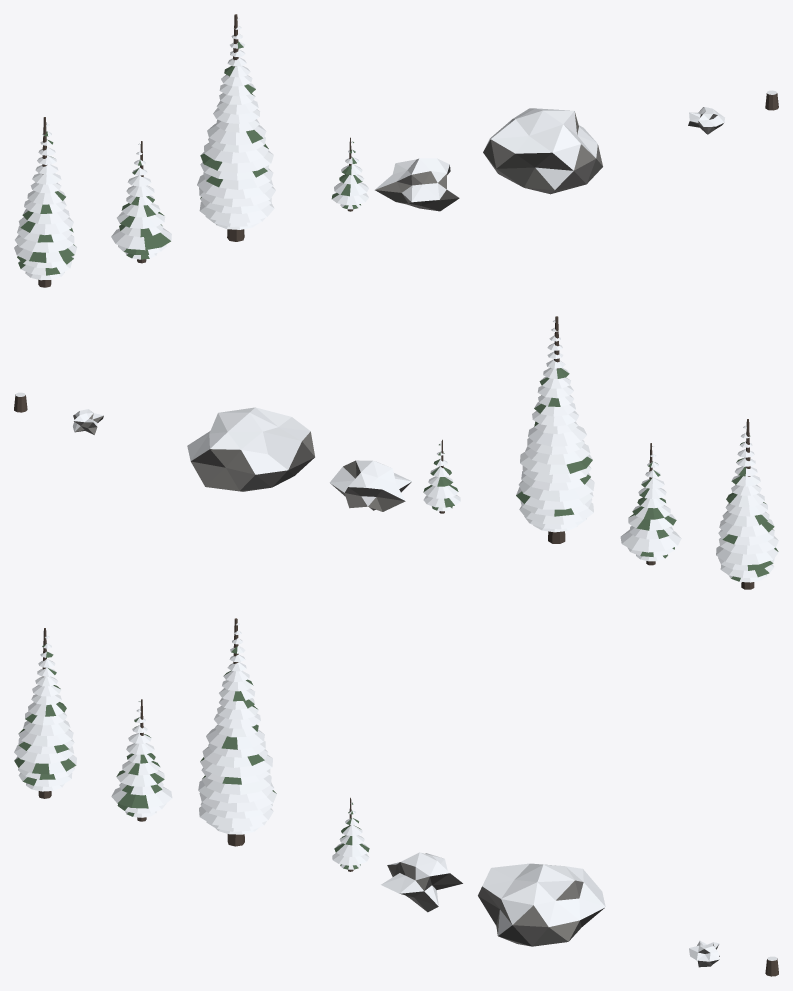
File: vegetation.glb
3 renders of one model, top to bottom at view 1: azimuth 30°, elevation 25°; view 2: azimuth 150°, elevation 25°; view 3: azimuth 330°, elevation 25°, orthographic.
Parts seen in each view (by area): view 1: tree_spruce_c, rock_b, tree_spruce_a, tree_spruce_b, rock_a, tree_spruce_d, rock_c; view 2: tree_spruce_c, rock_b, tree_spruce_a, tree_spruce_b, rock_a, tree_spruce_d, rock_c; view 3: tree_spruce_c, rock_b, tree_spruce_a, tree_spruce_b, rock_a, tree_spruce_d.
Boxes of the visible parts, box(x1,y1,x2,y2) form: tree_spruce_c: box(197, 14, 275, 241); rock_b: box(483, 108, 602, 194); tree_spruce_a: box(14, 117, 77, 287); tree_spruce_b: box(111, 141, 171, 263); rock_a: box(375, 158, 459, 211); tree_spruce_d: box(331, 137, 368, 211); rock_c: box(688, 107, 724, 134); tree_spruce_c: box(516, 316, 594, 543); rock_b: box(187, 407, 314, 491); tree_spruce_a: box(716, 419, 778, 589); tree_spruce_b: box(620, 443, 681, 565); rock_a: box(329, 460, 411, 511); tree_spruce_d: box(423, 439, 460, 513); rock_c: box(73, 409, 103, 434); tree_spruce_c: box(198, 618, 276, 846); rock_b: box(478, 863, 605, 946); tree_spruce_a: box(14, 628, 76, 798); tree_spruce_b: box(111, 699, 172, 821); rock_a: box(381, 852, 462, 912); tree_spruce_d: box(332, 797, 369, 871).
Size of the model in its own units: 53.47 by 16.29 by 7.17.
